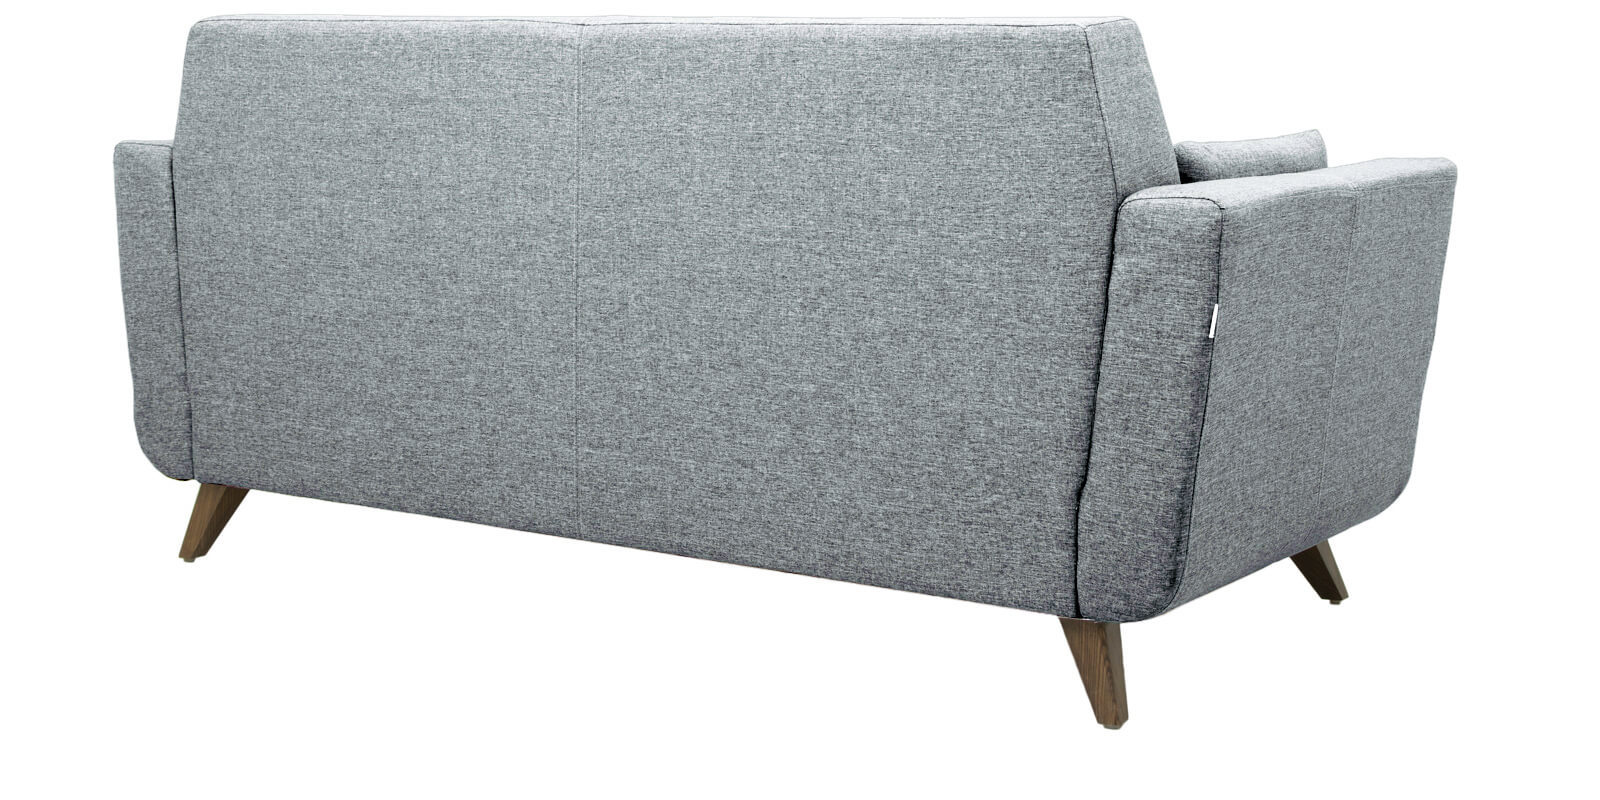Castello Three Seater Sofa in Gravel Grey Colour by CasaCraft: (99, 9, 1465, 724)
